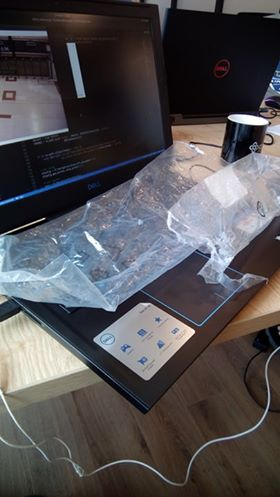plastic bag: (1, 139, 280, 312)
